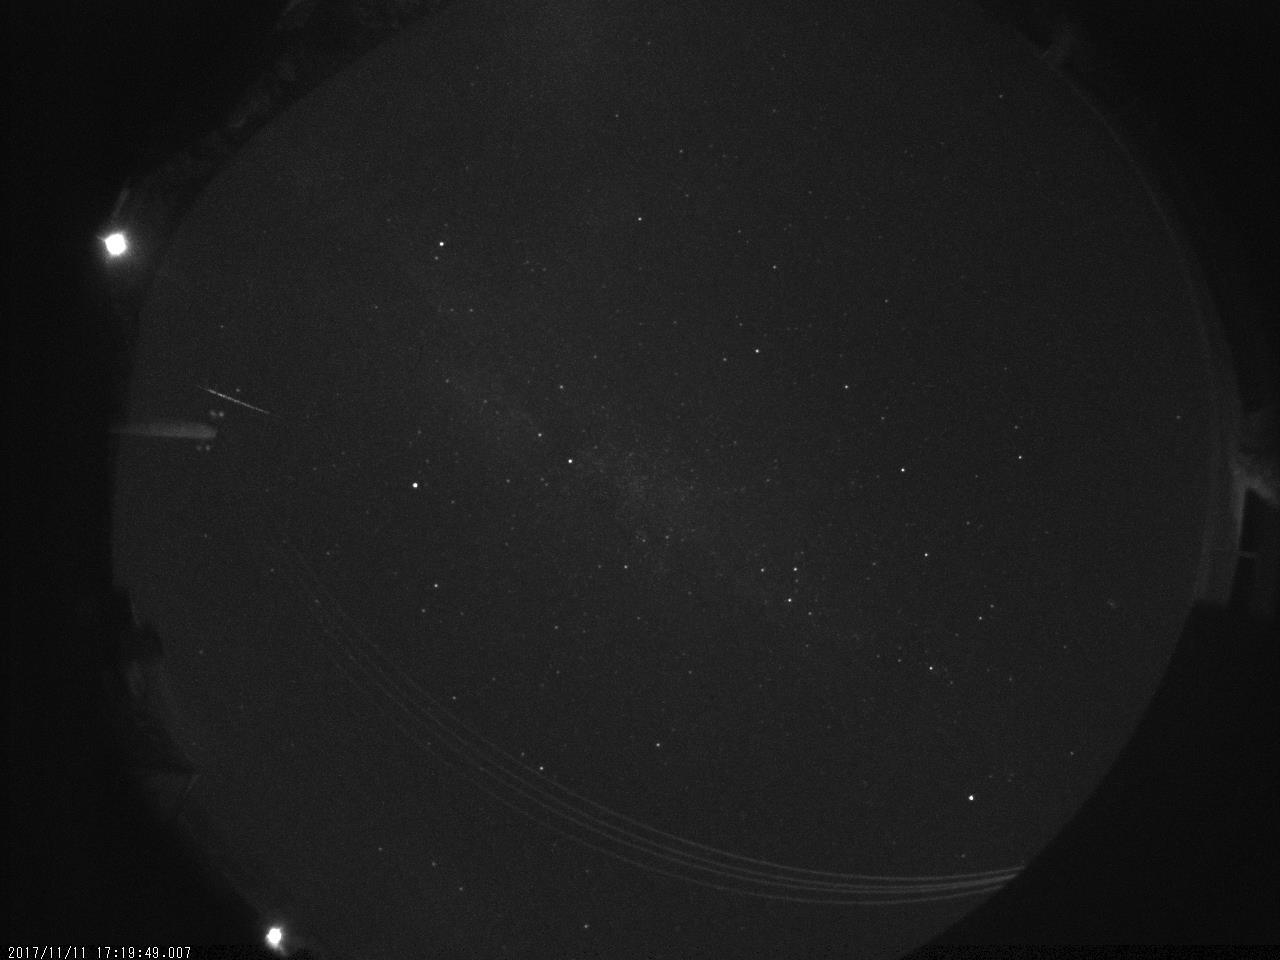Meteor: (191, 380, 280, 421)
